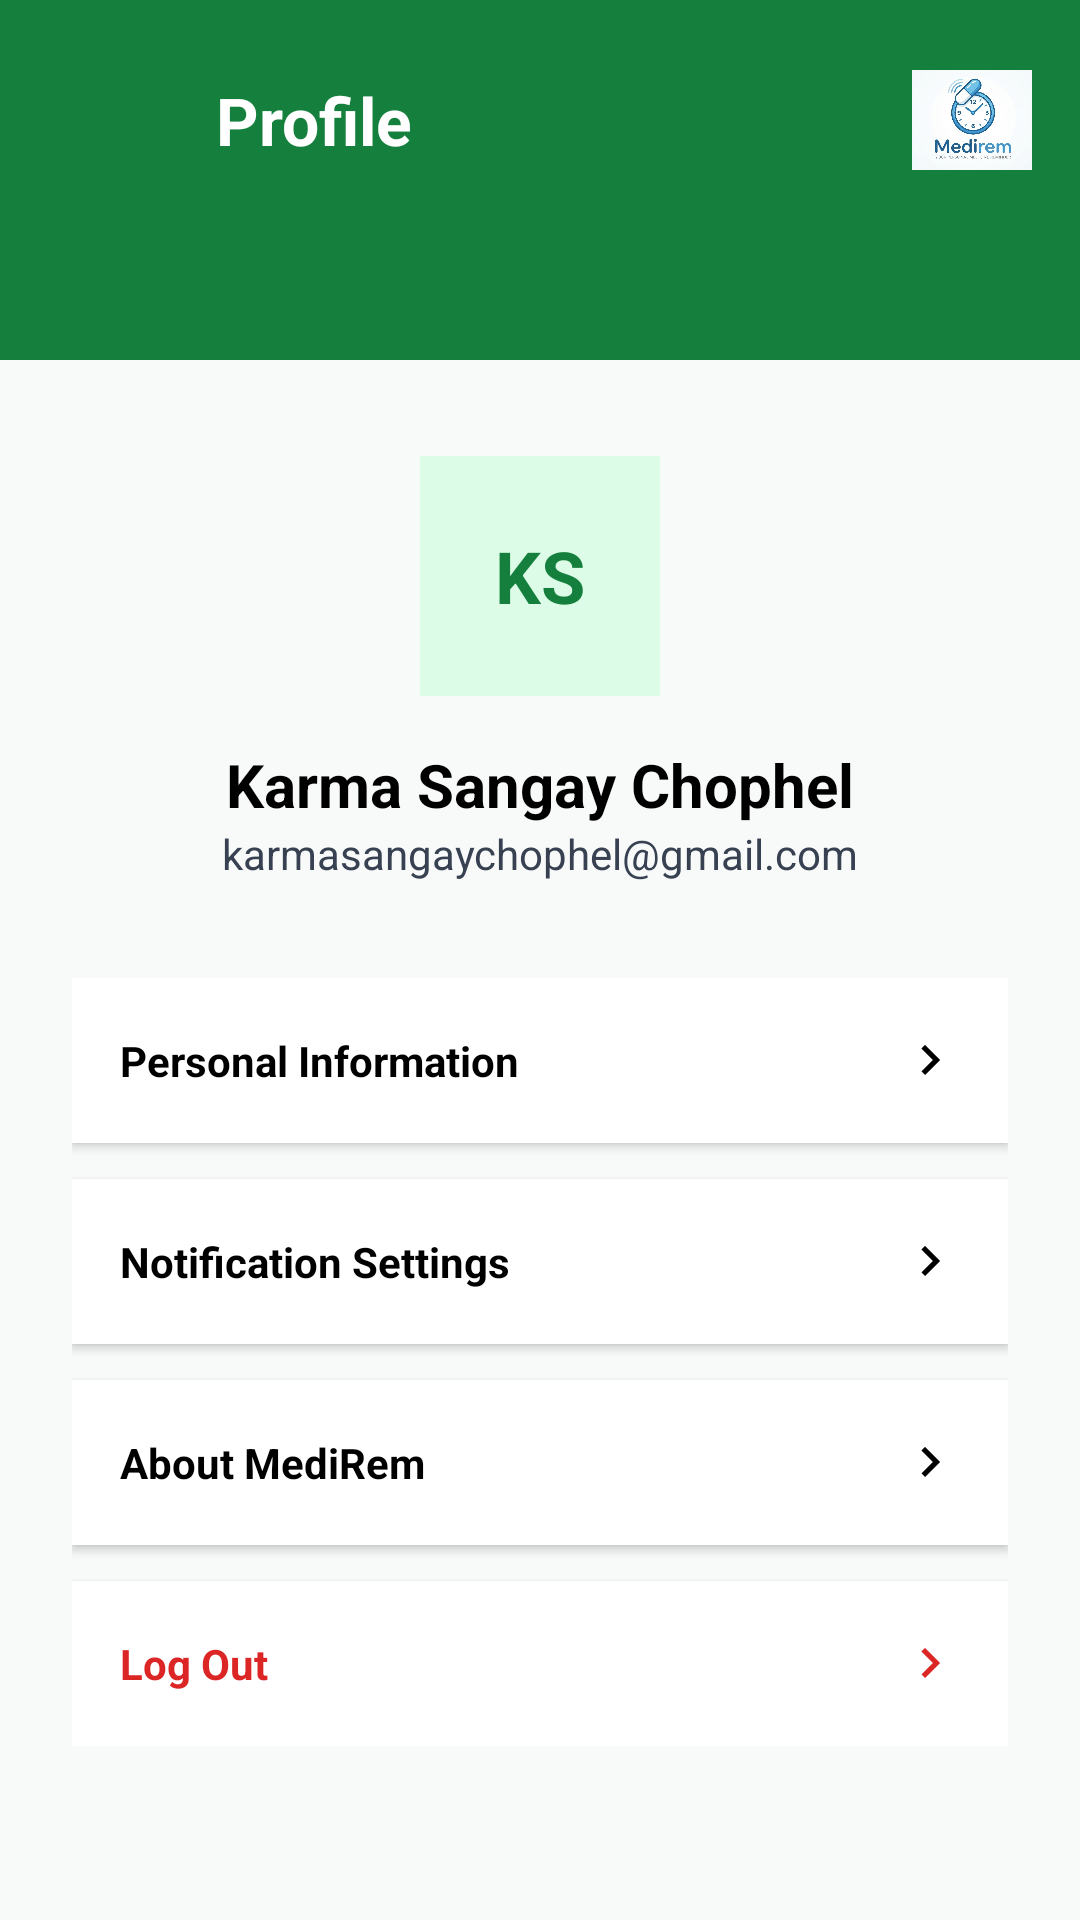

Where icons sit on this 1080px×1920px app screen, as (x1=x1, y1=y1, x2=x2, y2=y2):
chevron right: (x1=921, y1=1045, x2=940, y2=1075), (x1=921, y1=1246, x2=940, y2=1276), (x1=921, y1=1447, x2=940, y2=1477), (x1=921, y1=1648, x2=940, y2=1678)
